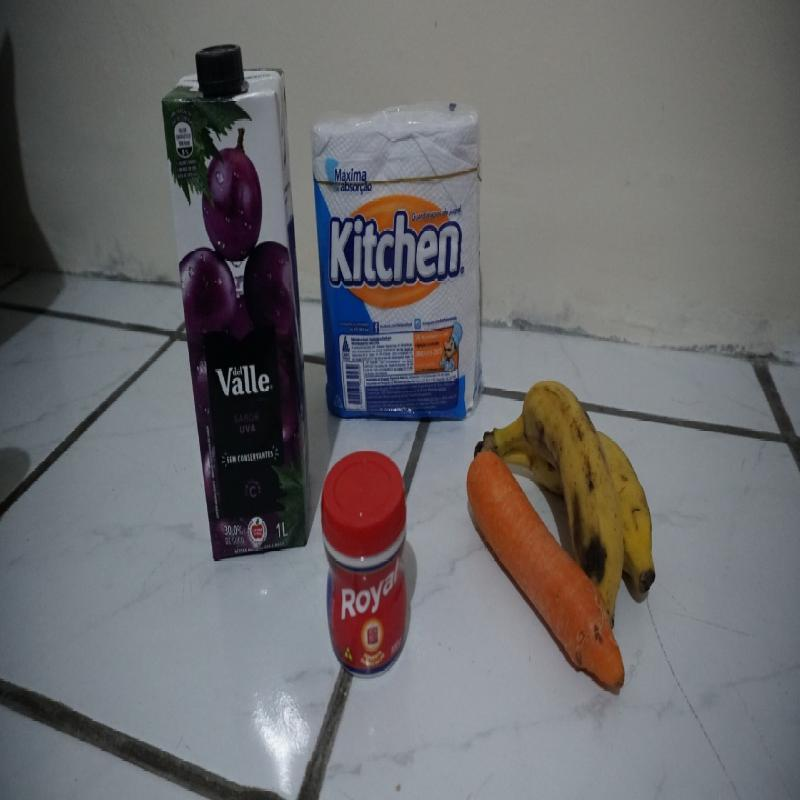Banana: (468, 372, 656, 628)
Carrot: (466, 451, 626, 689)
Napkin: (310, 101, 491, 422)
Yeast: (320, 448, 410, 679)
